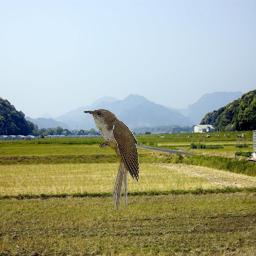Cuckoo: (83, 108, 139, 210)
